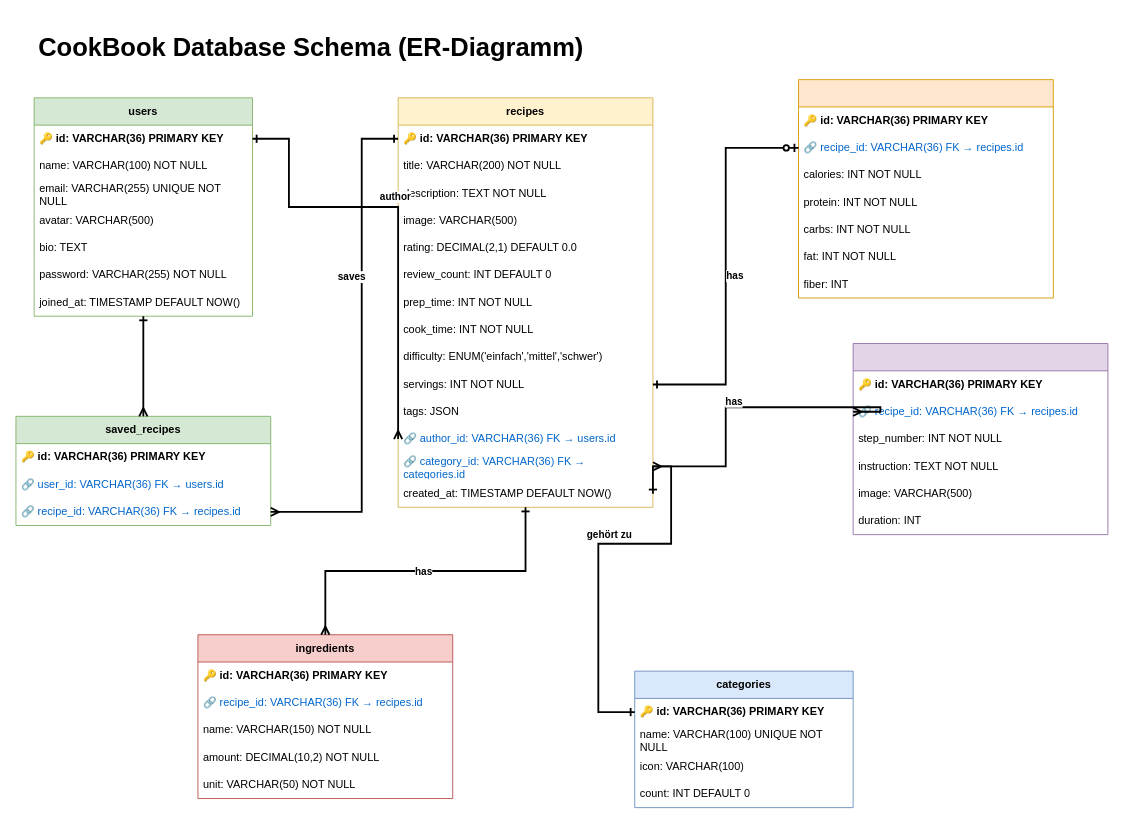
The diagram is 1124 pixels wide and 824 high, and some of its shapes have lost their labels. The shapes that lost their labels are listed below. From the top down, each one's box as (x1, y1, x2, y2) in pixels, then its label:
(798, 79, 1053, 298): nutrition_info
(852, 343, 1108, 535): cooking_steps
